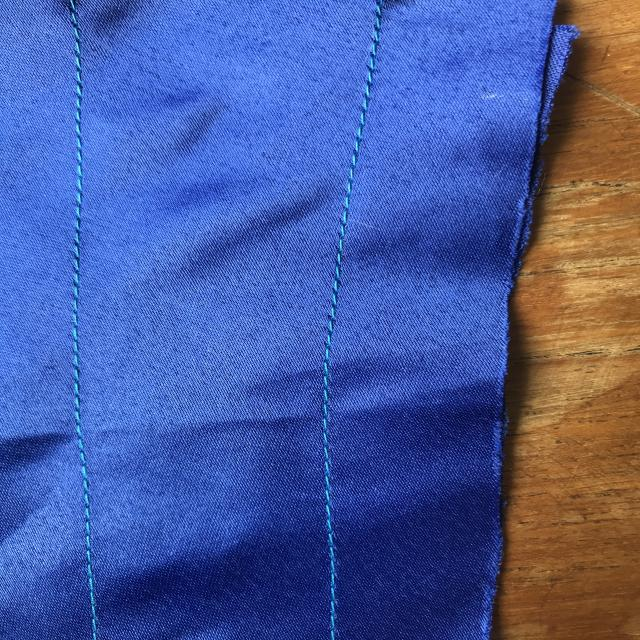good: (64, 151, 96, 329)
